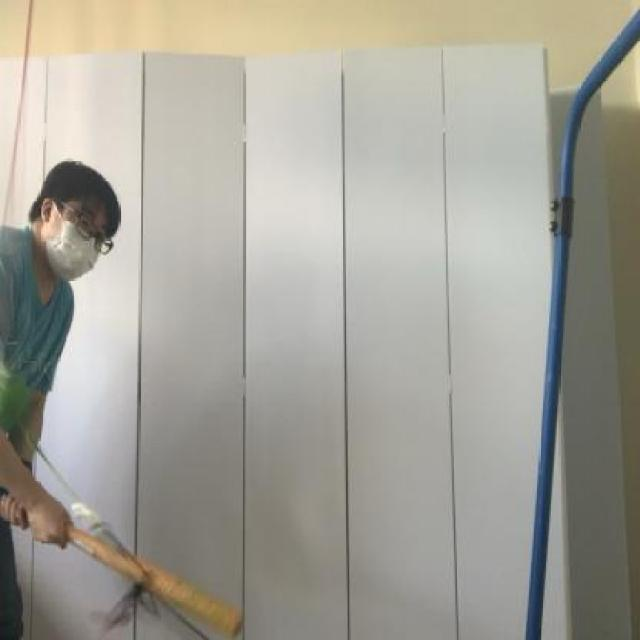baseball: (0, 352, 37, 446)
